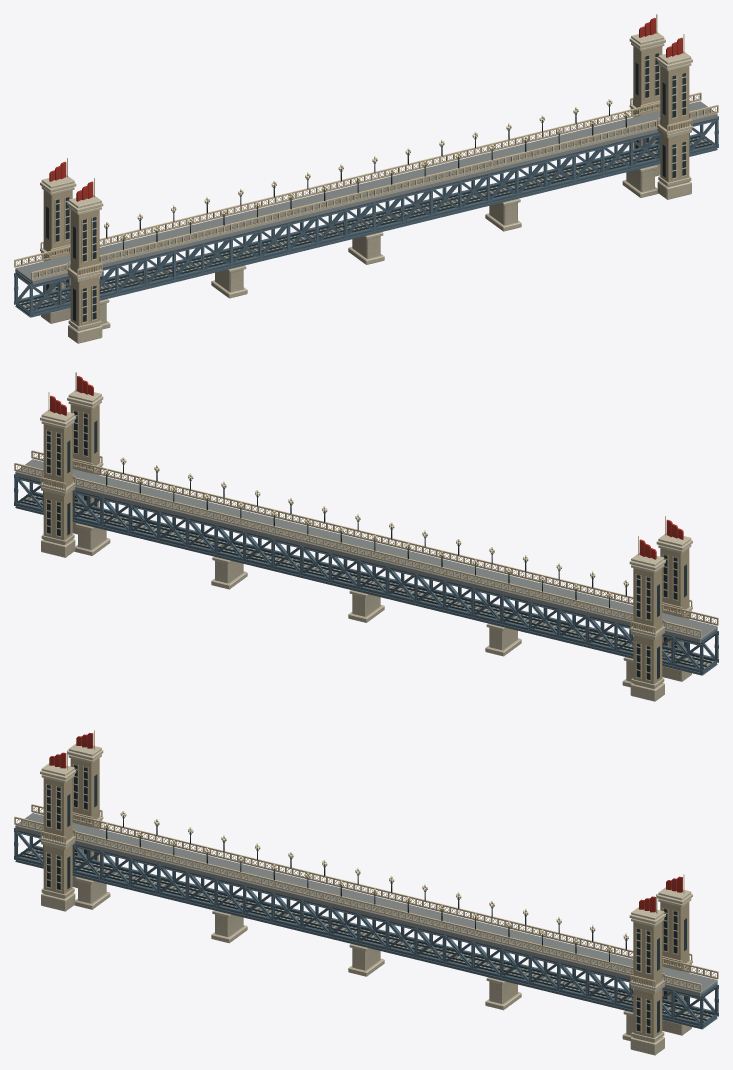
The model's file is 南京长江大桥_网页版.glb.
3 views of the same model, one above another, from view 1: azimuth 30°, elevation 25°; view 2: azimuth 150°, elevation 25°; view 3: azimuth 330°, elevation 25° (orthographic).
Parts seen in each view (by area): view 1: 南京长江大桥_WEB_桥梁; view 2: 南京长江大桥_WEB_桥梁; view 3: 南京长江大桥_WEB_桥梁.
Part boxes in pixels (x1,y1,x2,y2): 南京长江大桥_WEB_桥梁: (14, 14, 718, 343); 南京长江大桥_WEB_桥梁: (14, 372, 718, 701); 南京长江大桥_WEB_桥梁: (14, 730, 718, 1055).
Bounding box in the file's own units: 60.33 × 13.22 × 5.7.
Materials: 8 (2 with a texture image).
